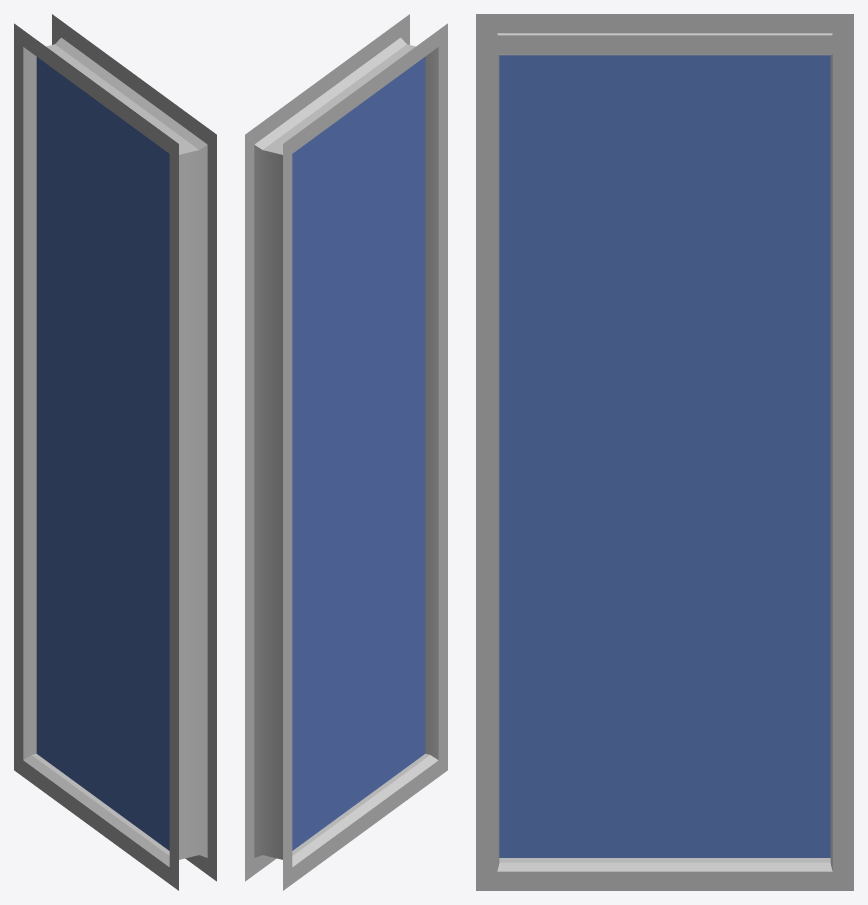
The model's file is win25.fbx.
3 renders of one model, left to right at view 1: azimuth 30°, elevation 25°; view 2: azimuth 150°, elevation 25°; view 3: azimuth 270°, elevation 25°, orthographic. The views are drawn at different scales.
Parts seen in each view (by area): view 1: Cylinder_2_2_5; view 2: Cylinder_2_2_5; view 3: Cylinder_2_2_5.
Boxes of the visible parts, box(x1,y1,x2,y2) form: Cylinder_2_2_5: box(14, 14, 216, 890); Cylinder_2_2_5: box(245, 14, 447, 890); Cylinder_2_2_5: box(476, 14, 853, 890).
Bounding box in the file's own units: 13.31 × 250 × 100.
